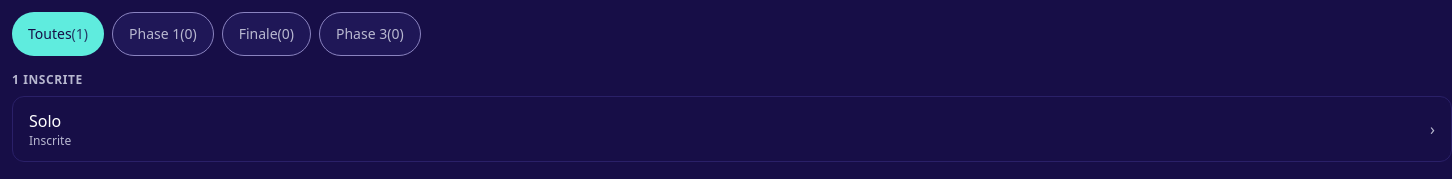
ParticipantesNav — filtres par phase › un filtre vide le dit, et laisse revenir à toutes
This screenshot has width=1452, height=179.
Click the button "Phase 1 (0)" at coordinates (163, 34), box [112,12,214,56]
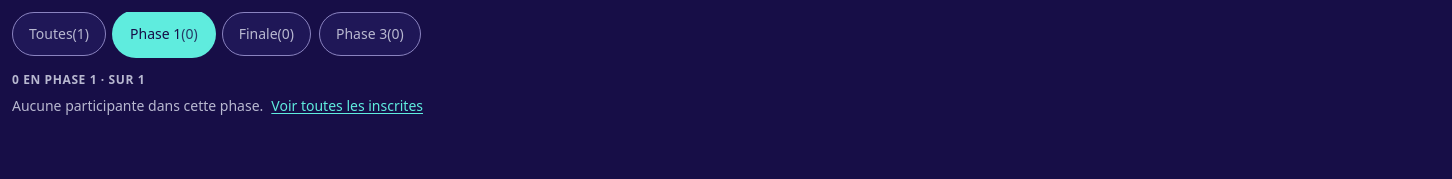
Click the button "Toutes (1)" at coordinates (59, 34), box [12,12,106,56]
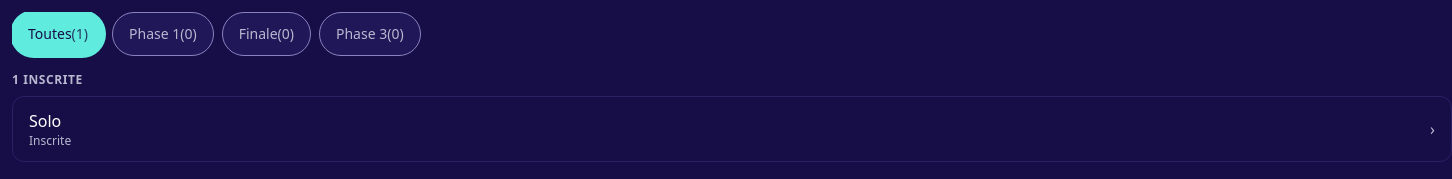
Expected: the text "Solo" is shown, [29,110,61,132]
